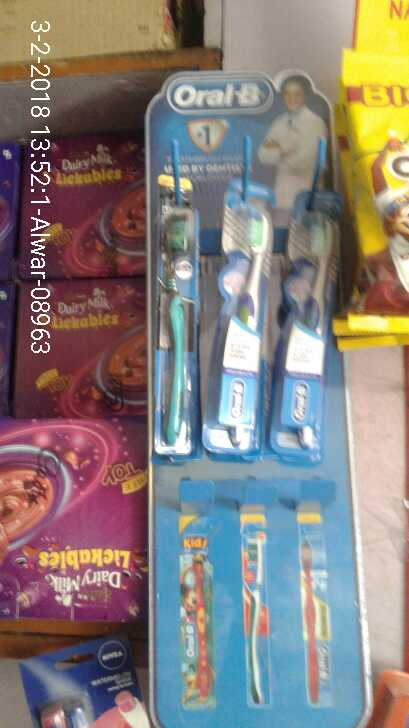oralb: (277, 183, 341, 462), (214, 167, 266, 455), (157, 190, 196, 458)
